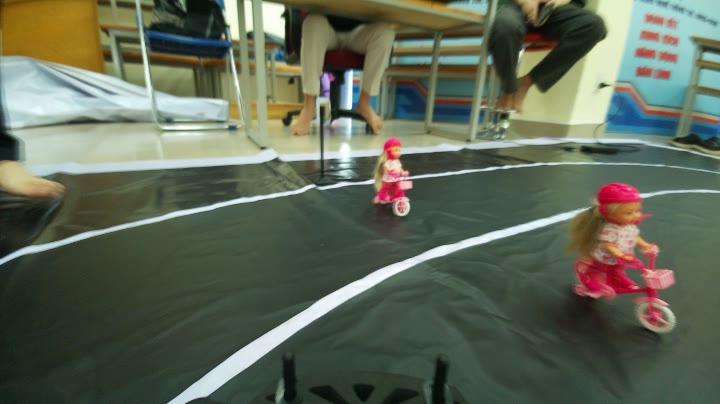pedestrian: (576, 175, 688, 344), (372, 143, 420, 216)
